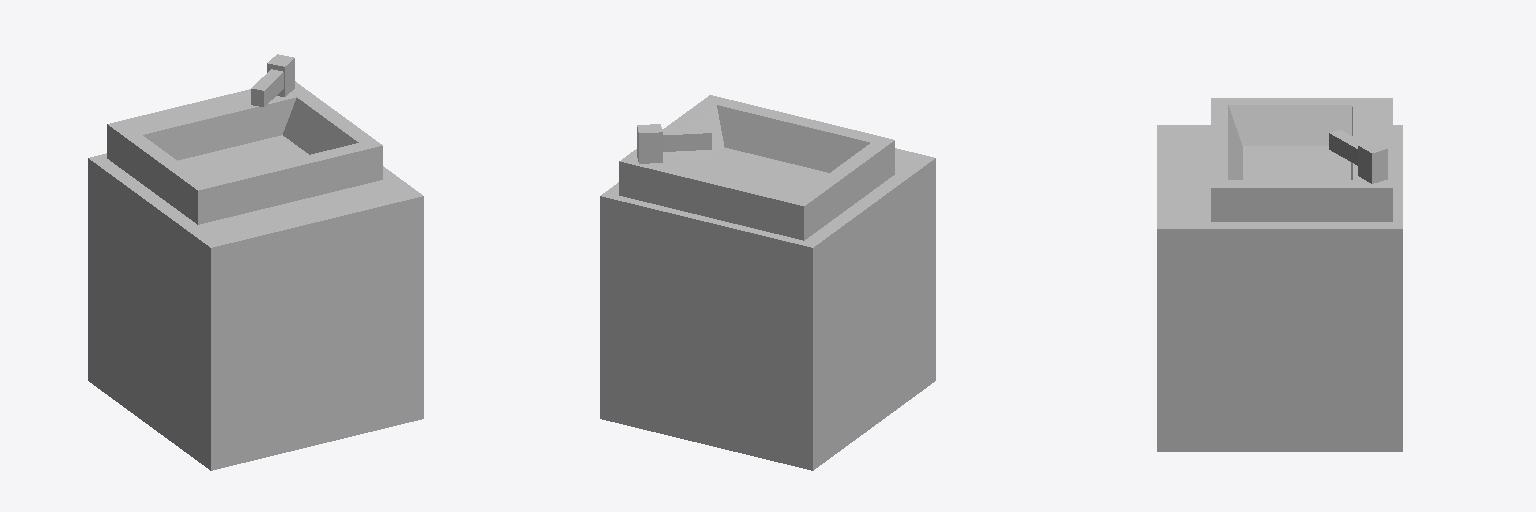
File: ksink.obj
The picture shows the model from 3 angles: view 1: azimuth 30°, elevation 25°; view 2: azimuth 150°, elevation 25°; view 3: azimuth 270°, elevation 25°; orthographic projection.
Parts seen in each view (by area): view 1: Box016; view 2: Box016; view 3: Box016.
Part boxes in pixels (x1,y1,x2,y2): Box016: (88,54,423,470); Box016: (600,95,935,470); Box016: (1157,98,1402,451).
Bounding box in the file's own units: 10 × 12.91 × 10.